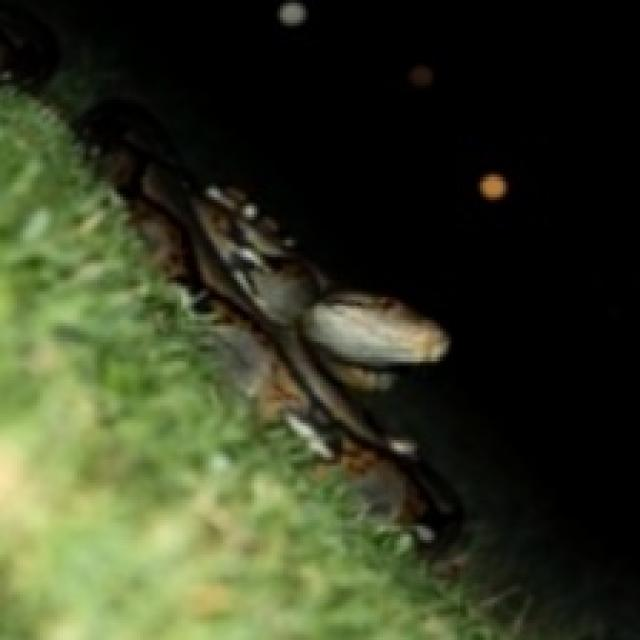reticulated python: (74, 97, 460, 549)
